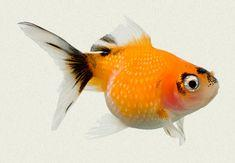goldfish: (52, 27, 222, 136)
